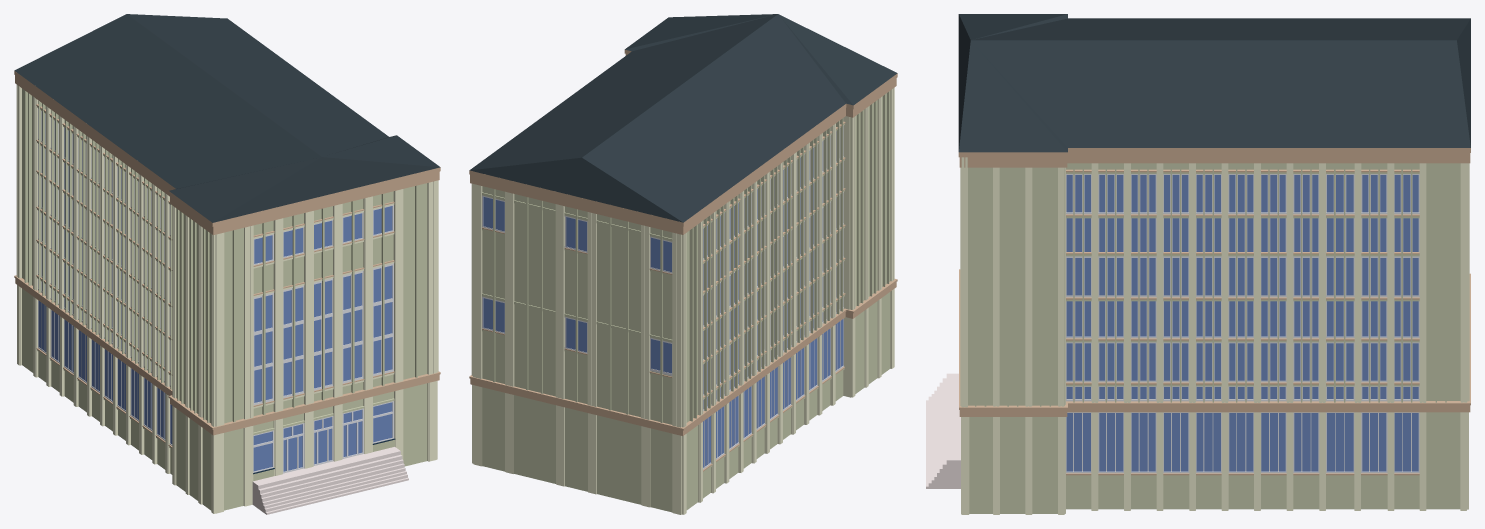
The model's file is bank_1.glb.
3 renders of one model, left to right at view 1: azimuth 30°, elevation 25°; view 2: azimuth 150°, elevation 25°; view 3: azimuth 270°, elevation 25°, orthographic. The views are drawn at different scales.
Parts seen in each view (by area): view 1: Building2_a_Long1_LP_0; view 2: Building2_a_Long1_LP_0; view 3: Building2_a_Long1_LP_0.
Part boxes in pixels (x1,y1,x2,y2): Building2_a_Long1_LP_0: (14,14,440,514); Building2_a_Long1_LP_0: (469,14,897,514); Building2_a_Long1_LP_0: (926,14,1470,514).
Size of the model in its own units: 0.8486 by 1.16 by 1.41.
Materials: 1 (1 with a texture image).
